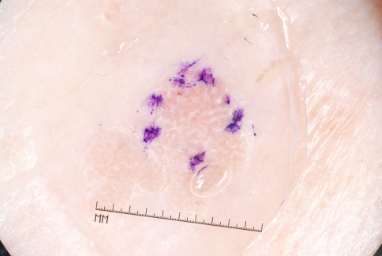seborrheic keratosis: (161, 86, 226, 151)
